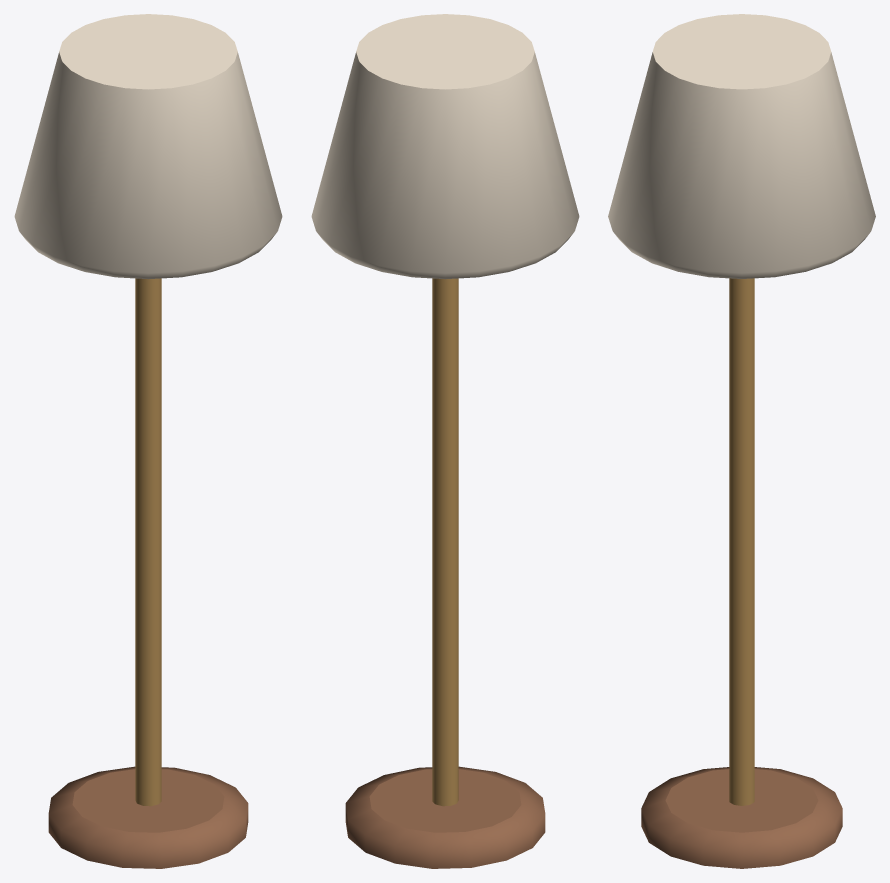
Rendered from kit_floor_lamp_v1.glb.
3 views of the same model, side by side, from view 1: azimuth 30°, elevation 25°; view 2: azimuth 150°, elevation 25°; view 3: azimuth 270°, elevation 25° (orthographic).
Visible parts, largest first — view 1: body; view 2: body; view 3: body.
Boxes of the visible parts, <box> form: body: <box>14,14,282,868</box>; body: <box>311,14,579,868</box>; body: <box>608,14,875,868</box>.
Size of the model in its own units: 0.42 by 1.34 by 0.42.
